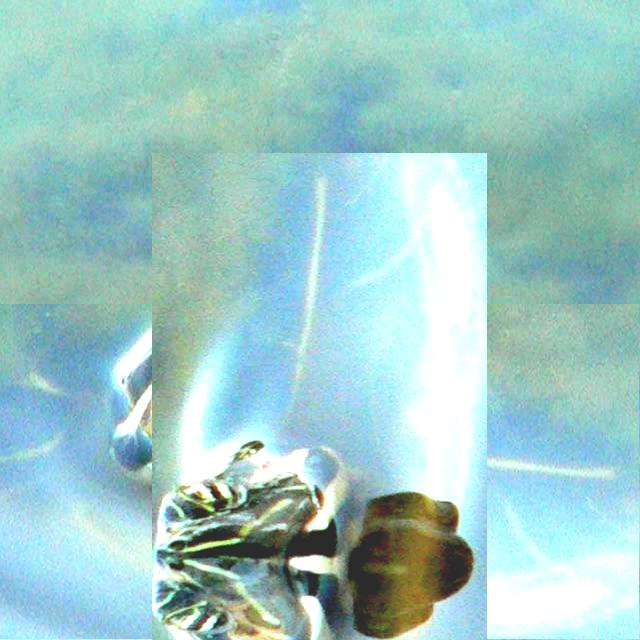Sea turtle: (76, 228, 563, 640)
